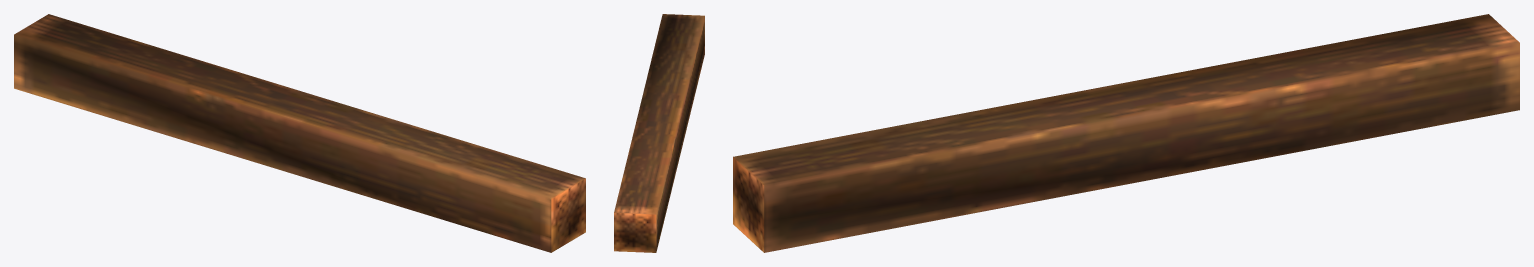
Rendered from SWORDLIGHT20_JAILBRACE88.fbx.
The picture shows the model from 3 angles, left to right: view 1: azimuth 30°, elevation 25°; view 2: azimuth 150°, elevation 25°; view 3: azimuth 270°, elevation 25°; orthographic projection. The views are drawn at different scales.
Parts seen in each view (by area): view 1: SWORDLIGHT20_JAILBRACE88; view 2: SWORDLIGHT20_JAILBRACE88; view 3: SWORDLIGHT20_JAILBRACE88.
Part boxes in pixels (x1,y1,x2,y2): SWORDLIGHT20_JAILBRACE88: (14, 14, 585, 252); SWORDLIGHT20_JAILBRACE88: (614, 14, 704, 252); SWORDLIGHT20_JAILBRACE88: (733, 14, 1519, 252).
Size of the model in its own units: 21779 by 4000 by 42228.
1 material, 1 textured.
